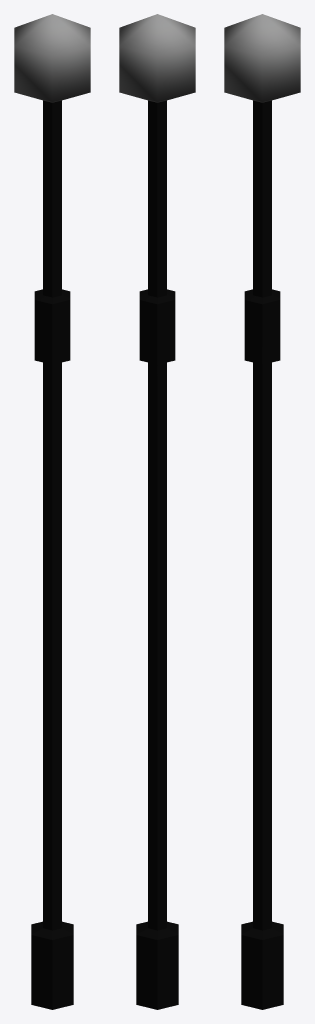
The model's file is LampPole_Long_White.fbx.
3 views of the same model, side by side, from view 1: azimuth 90°, elevation 25°; view 2: azimuth 150°, elevation 25°; view 3: azimuth 270°, elevation 25° (orthographic).
Parts seen in each view (by area): view 1: LampPole_Long_White; view 2: LampPole_Long_White; view 3: LampPole_Long_White.
Boxes of the visible parts, x1,y1,x2,y2 form: LampPole_Long_White: (14, 14, 90, 1009); LampPole_Long_White: (119, 14, 195, 1009); LampPole_Long_White: (224, 14, 300, 1009).
Size of the model in its own units: 16.11 by 199 by 13.95.
